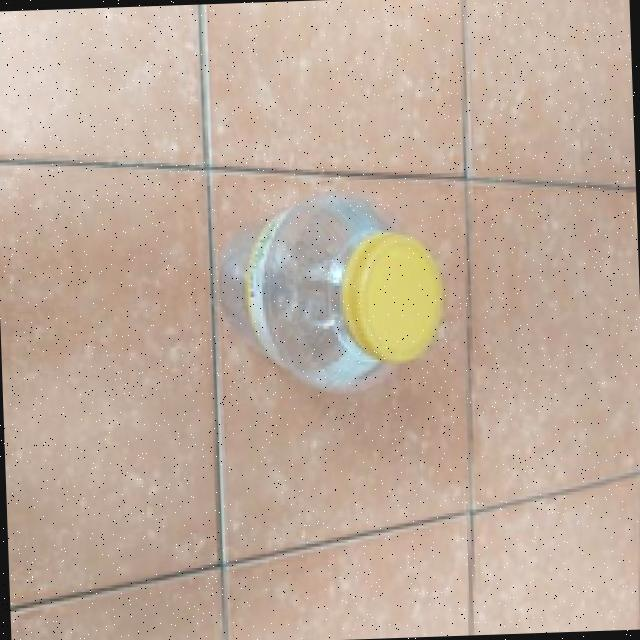bottle: (198, 168, 457, 496)
cap: (348, 230, 443, 368)
